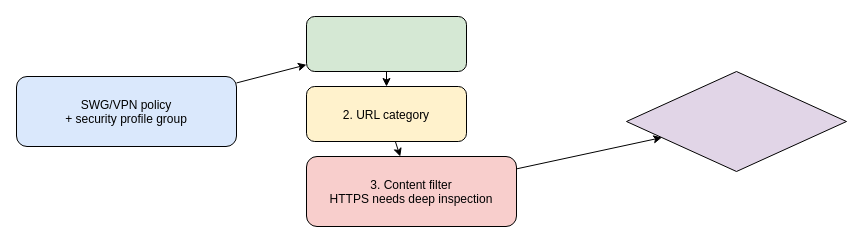
Some shapes in this 863 by 243 pixel diagram are drawn without their labels. Here are the shapes that lost their labels. From the top down, the centre of each, then its label:
At pixel 386 44: "1. URL filter".
At pixel 736 121: "Allow / block web request".
